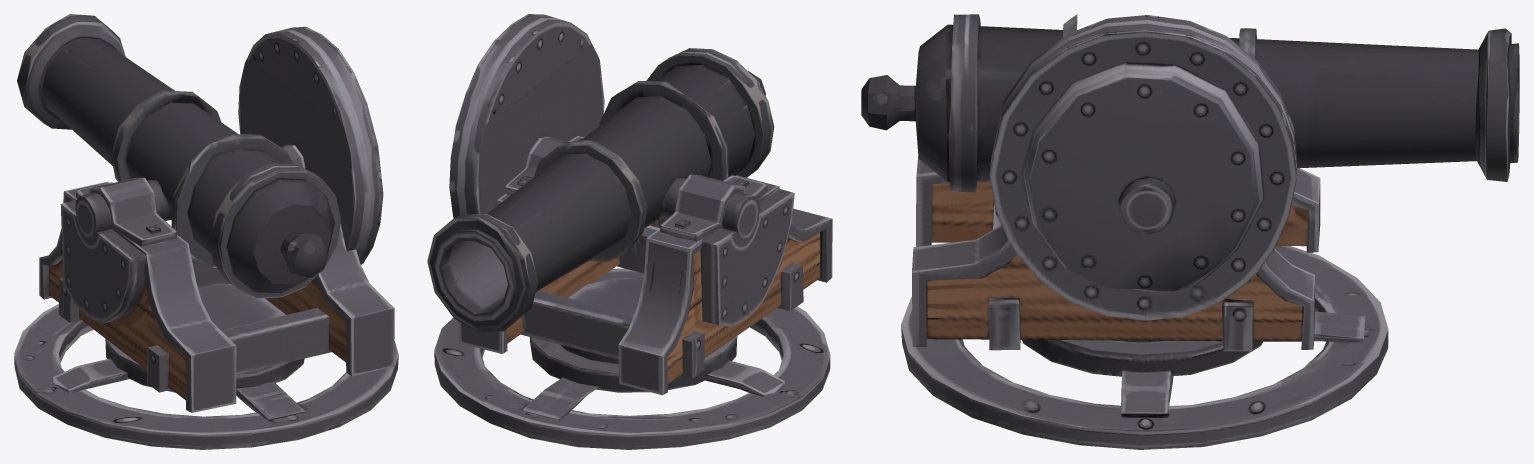
The model's file is cannon22a-side-1500.glb.
3 renders of one model, left to right at view 1: azimuth 30°, elevation 25°; view 2: azimuth 150°, elevation 25°; view 3: azimuth 270°, elevation 25°, orthographic. The views are drawn at different scales.
Parts seen in each view (by area): view 1: mount, barrel; view 2: mount, barrel; view 3: mount, barrel.
Boxes of the visible parts, x1=… form: mount: x1=14, y1=26, x2=398, y2=449; barrel: x1=17, y1=14, x2=340, y2=298; mount: x1=434, y1=14, x2=832, y2=449; barrel: x1=427, y1=48, x2=774, y2=332; mount: x1=901, y1=15, x2=1388, y2=449; barrel: x1=861, y1=14, x2=1519, y2=192.
Size of the model in its own units: 1.49 by 1.3 by 2.
Materials: 1 (1 with a texture image).
